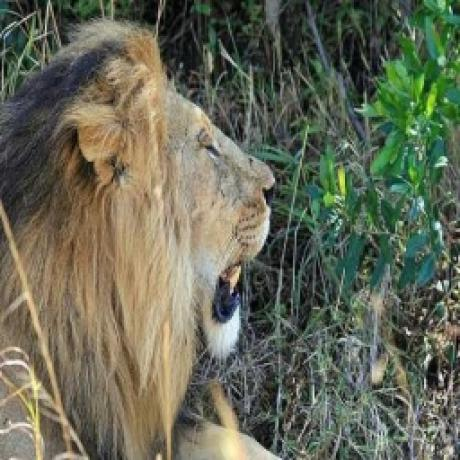Lion: (0, 7, 288, 458)
